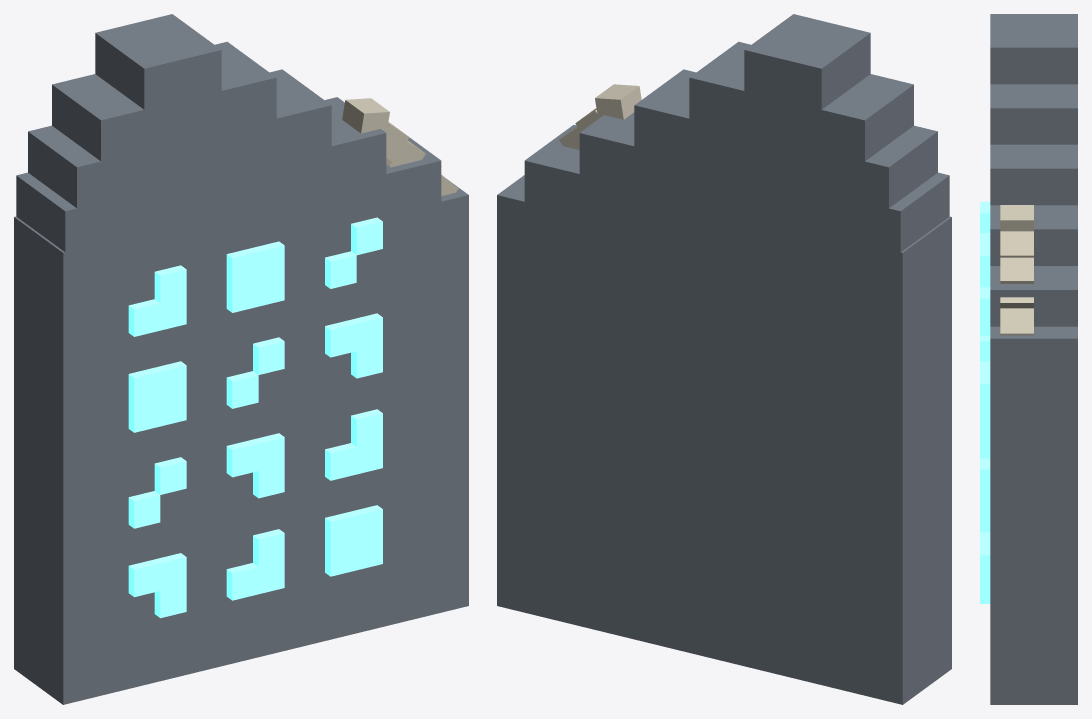
3 renders of one model, left to right at view 1: azimuth 30°, elevation 25°; view 2: azimuth 150°, elevation 25°; view 3: azimuth 270°, elevation 25°, orthographic. The views are drawn at different scales.
Visible parts, largest first — view 1: R054_Main, R054_Glow, R054_Trim; view 2: R054_Main, R054_Trim; view 3: R054_Main, R054_Glow, R054_Trim.
Boxes of the visible parts, bbox=[...] form: R054_Main: bbox=[14, 14, 468, 704]; R054_Glow: bbox=[128, 217, 382, 618]; R054_Trim: bbox=[342, 98, 458, 195]; R054_Main: bbox=[497, 14, 951, 704]; R054_Trim: bbox=[559, 84, 641, 149]; R054_Main: bbox=[990, 14, 1077, 704]; R054_Glow: bbox=[980, 201, 990, 603]; R054_Trim: bbox=[1000, 205, 1033, 335].
Bounding box in the file's own units: 1.24 × 1.8 × 0.29.
